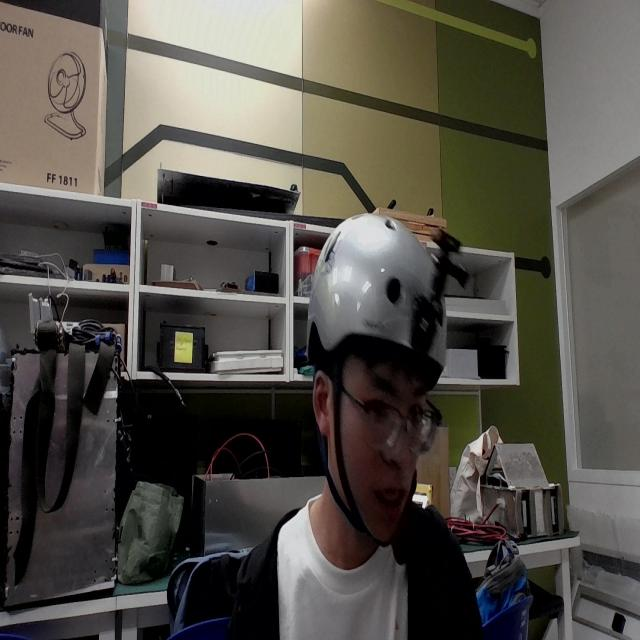With Helmet: (291, 179, 488, 569)
